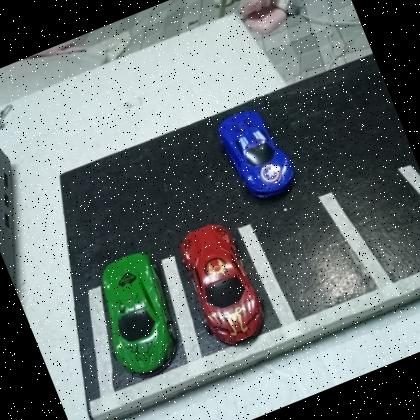Car: (82, 244, 196, 386), (170, 215, 276, 355), (212, 98, 303, 208)
